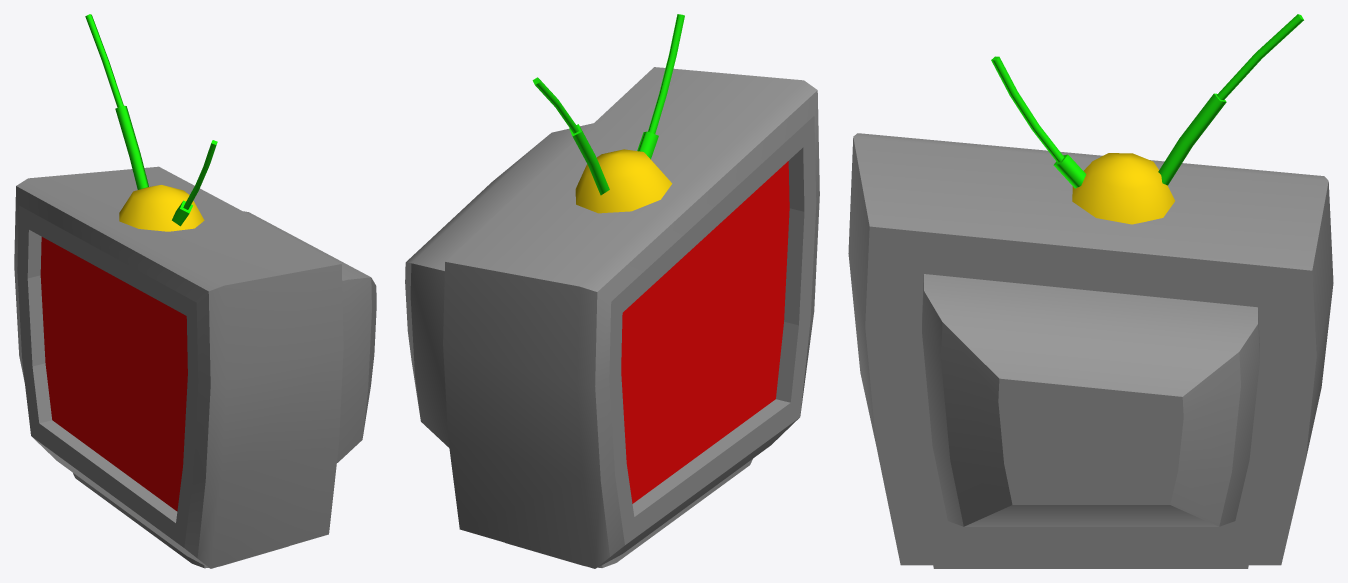
The picture shows the model from 3 angles, left to right: view 1: azimuth 30°, elevation 25°; view 2: azimuth 150°, elevation 25°; view 3: azimuth 270°, elevation 25°; orthographic projection. The views are drawn at different scales.
Visible parts, largest first — view 1: Cylinder001; view 2: Cylinder001; view 3: Cylinder001.
Part boxes in pixels (box(x1,y1,x2,y2)): Cylinder001: box(14, 14, 376, 568); Cylinder001: box(405, 14, 819, 568); Cylinder001: box(848, 14, 1333, 568).
Size of the model in its own units: 34.56 by 62.17 by 51.97.
